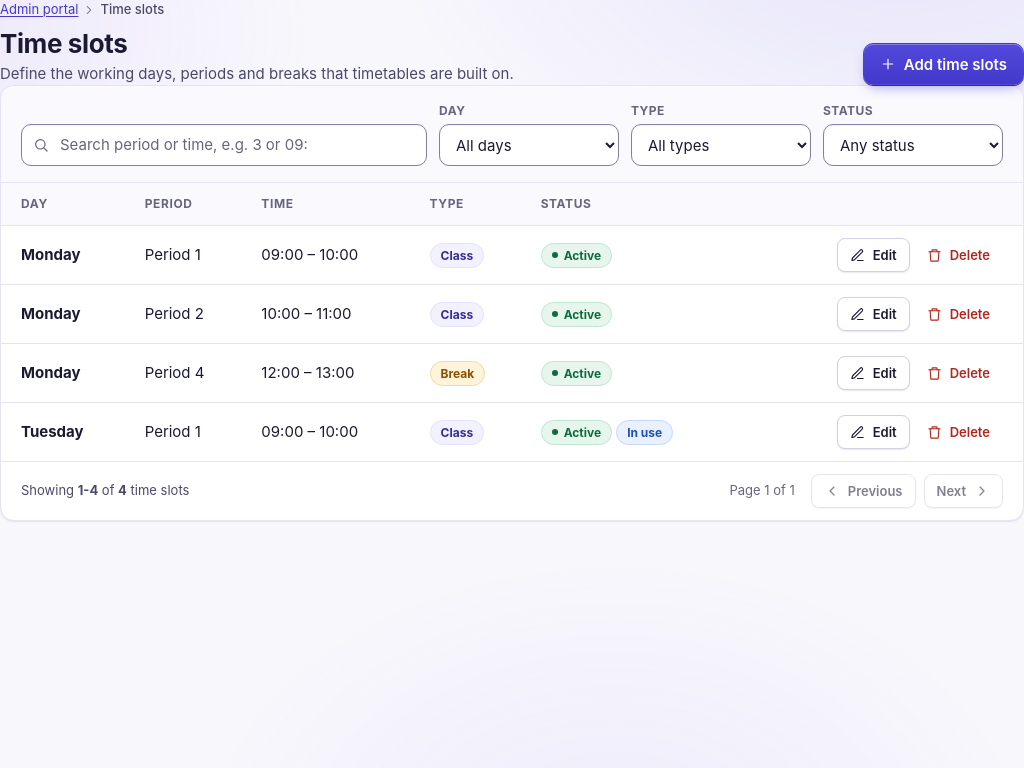
Test: Time slots screen - create (DIY-TC09, TC10, TC12) › DIY-TC09 / TC12: sends the days, period and times, shows a success toast, closes and refreshes the list
Click the button "Add time slots" at point(943, 64), box [863, 43, 1023, 85]
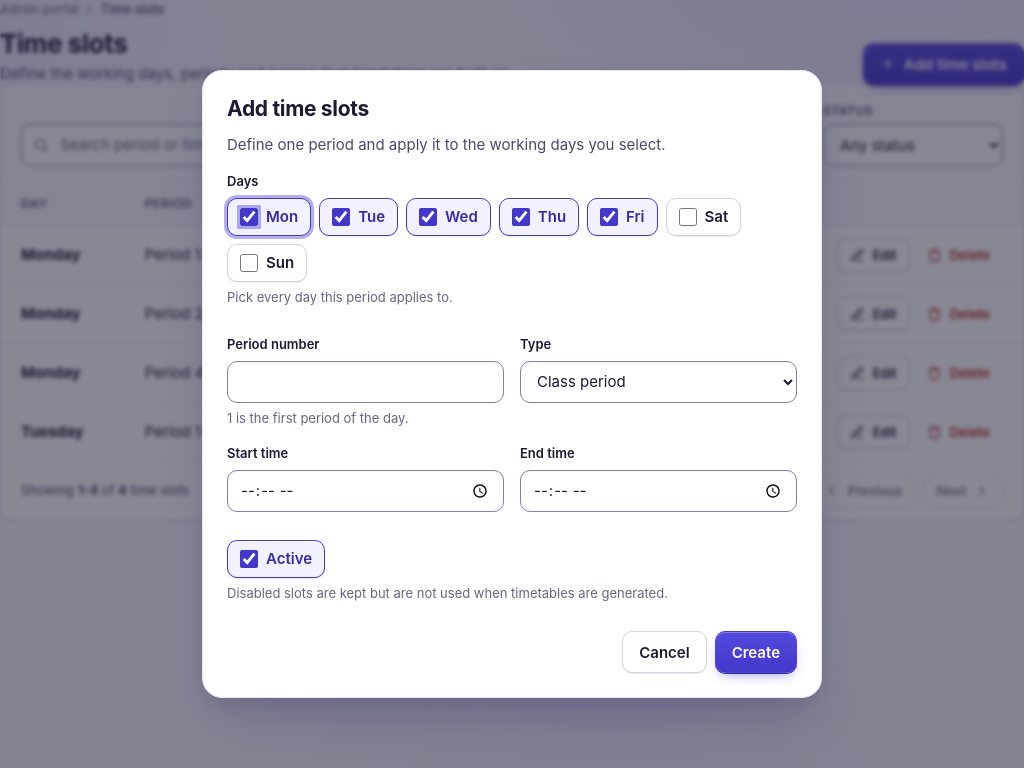
Type "1" into the number field labelled "Period number" at point(366, 382), box [227, 361, 504, 403]
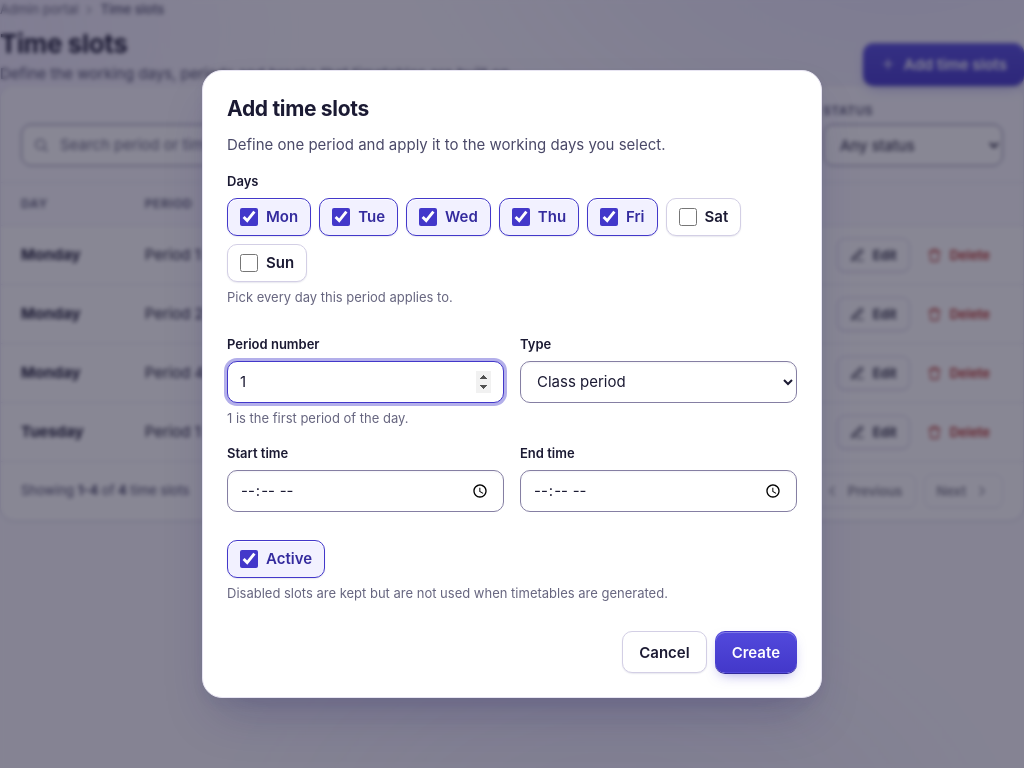
Type "09:00" into the time field labelled "Start time" at point(366, 491), box [227, 470, 504, 512]
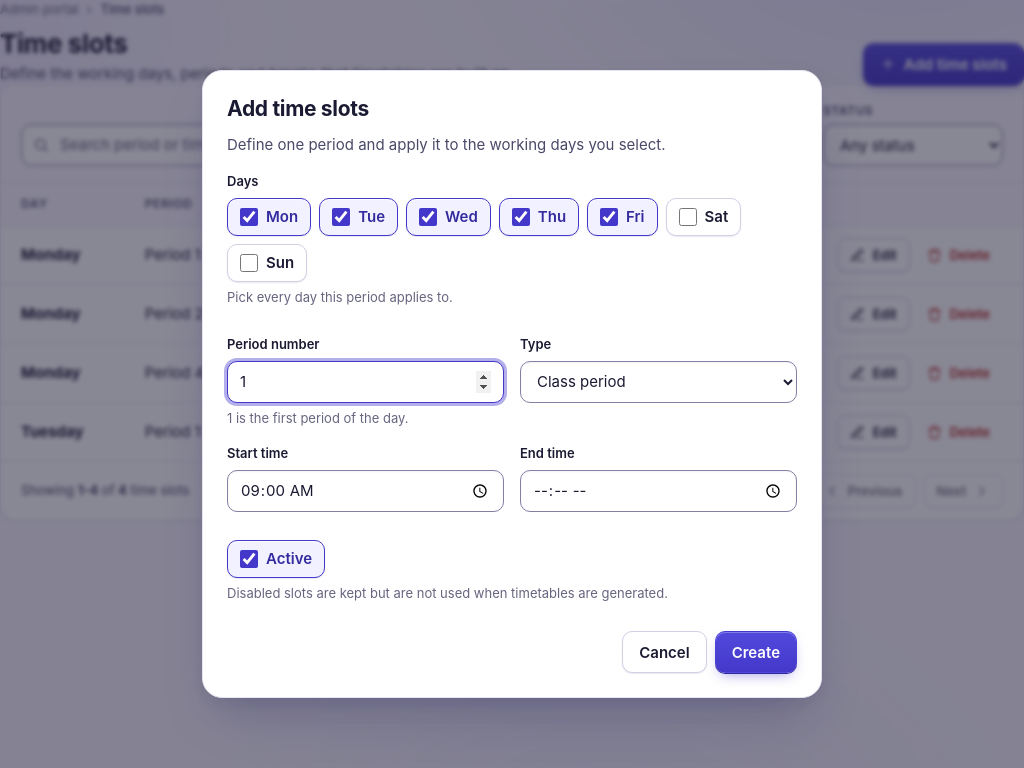
Type "10:00" into the time field labelled "End time" at point(658, 491), box [520, 470, 797, 512]
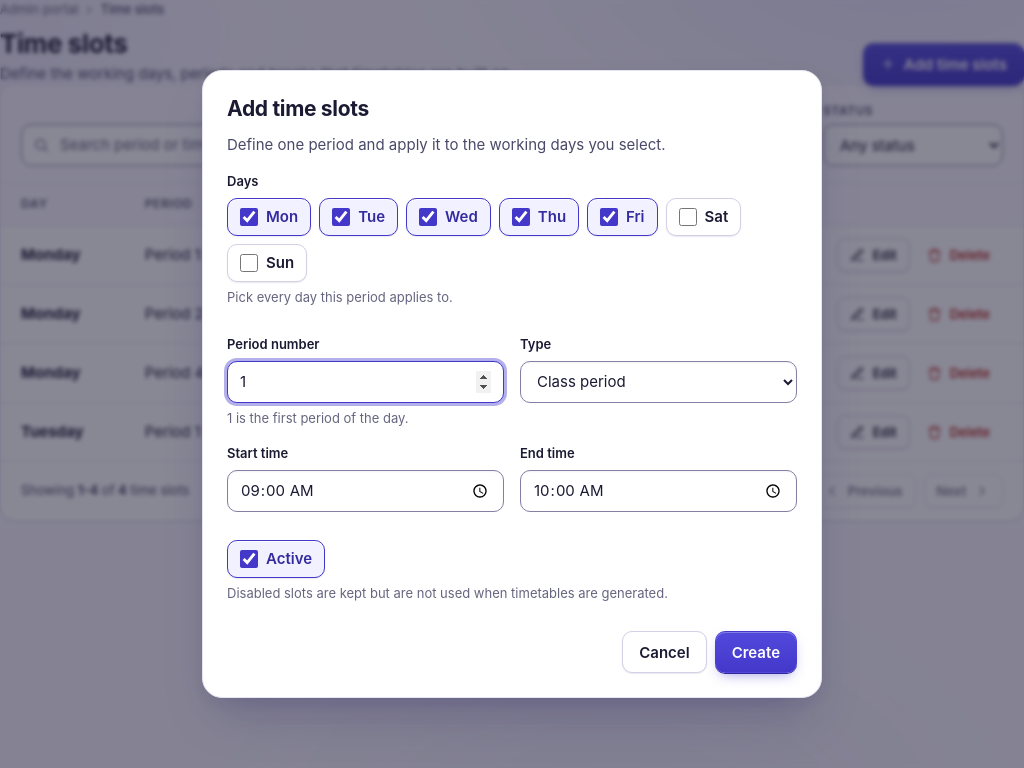
Click the button "Create" at point(756, 652), box [715, 631, 797, 673]
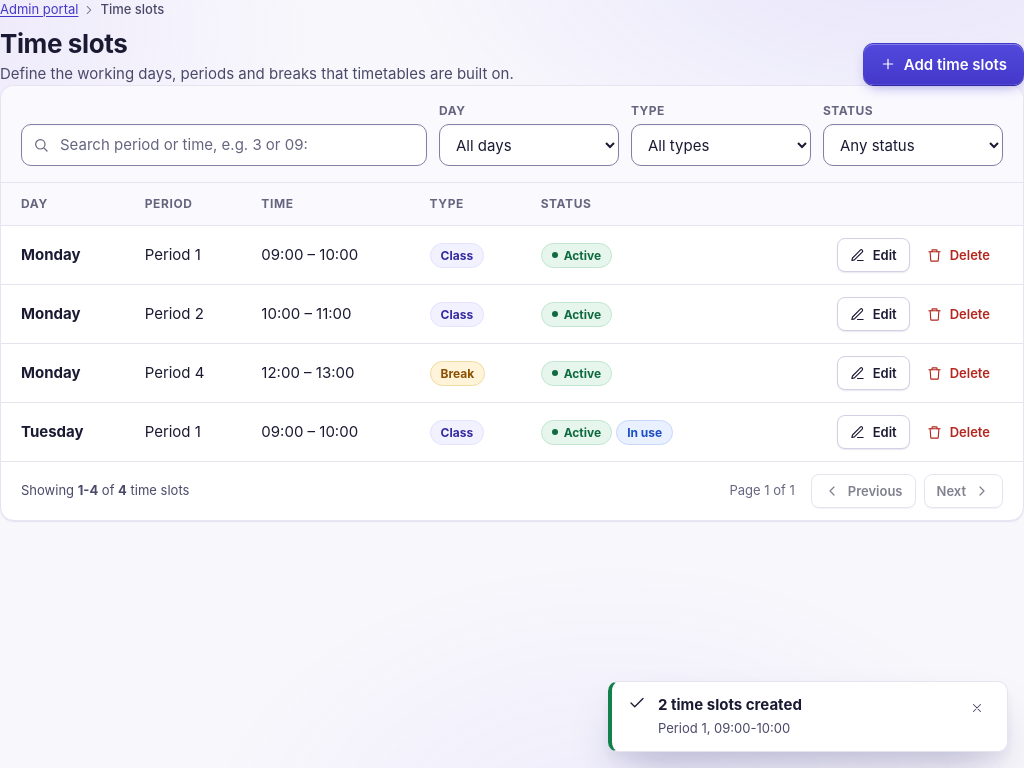
Expected: the text "2 time slots created" is shown, [658, 694, 802, 716]
Expected: the dialog is gone
